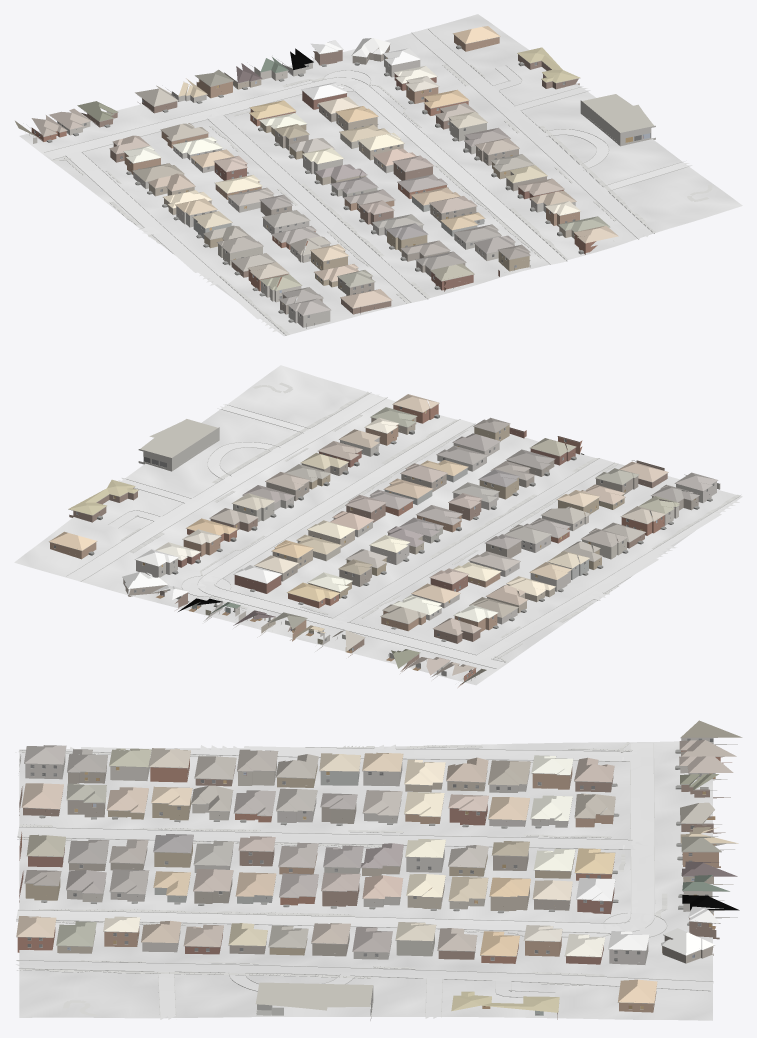
3 views of the same model, one above another, from view 1: azimuth 30°, elevation 25°; view 2: azimuth 150°, elevation 25°; view 3: azimuth 270°, elevation 25° (orthographic). The views are drawn at different scales.
Visible parts, largest first — view 1: ground, roof, concrete, wall, detail, curb, walk, wall_stone, wall_stucco, roof_flat, wall_com, glass; view 2: ground, roof, concrete, wall, detail, curb, wall_stone, walk, wall_stucco, roof_flat, wall_com, glass (+1 smaller); view 3: ground, roof, concrete, wall, curb, detail, wall_stone, wall_stucco, walk, roof_flat, glass, room.
Part boxes in pixels (bbox=[...]): ground: bbox=[19, 14, 742, 336]; roof: bbox=[15, 26, 618, 315]; concrete: bbox=[44, 29, 691, 331]; wall: bbox=[31, 35, 597, 314]; detail: bbox=[25, 34, 650, 325]; curb: bbox=[44, 29, 691, 335]; walk: bbox=[51, 64, 712, 335]; wall_stone: bbox=[33, 55, 575, 327]; wall_stucco: bbox=[58, 67, 514, 328]; roof_flat: bbox=[582, 94, 654, 132]; wall_com: bbox=[580, 100, 655, 146]; glass: bbox=[34, 57, 641, 317]; ground: bbox=[14, 365, 742, 685]; roof: bbox=[49, 394, 717, 685]; concrete: bbox=[66, 394, 739, 668]; wall: bbox=[50, 404, 698, 687]; detail: bbox=[49, 403, 719, 681]; curb: bbox=[66, 392, 740, 668]; wall_stone: bbox=[136, 438, 716, 651]; walk: bbox=[120, 382, 740, 662]; wall_stucco: bbox=[233, 443, 720, 679]; roof_flat: bbox=[140, 419, 217, 457]; wall_com: bbox=[138, 427, 219, 471]; glass: bbox=[54, 407, 713, 676]; ground: bbox=[19, 741, 712, 1020]; roof: bbox=[16, 720, 742, 1012]; concrete: bbox=[16, 743, 713, 1019]; wall: bbox=[17, 750, 733, 1019]; curb: bbox=[16, 743, 713, 1019]; detail: bbox=[16, 737, 735, 1016]; wall_stone: bbox=[25, 738, 737, 964]; wall_stucco: bbox=[19, 754, 727, 956]; walk: bbox=[18, 742, 667, 1016]; roof_flat: bbox=[255, 982, 373, 1010]; glass: bbox=[27, 738, 713, 1015]; room: bbox=[67, 767, 716, 1015].
Size of the model in its own units: 260 by 16.62 by 263.
